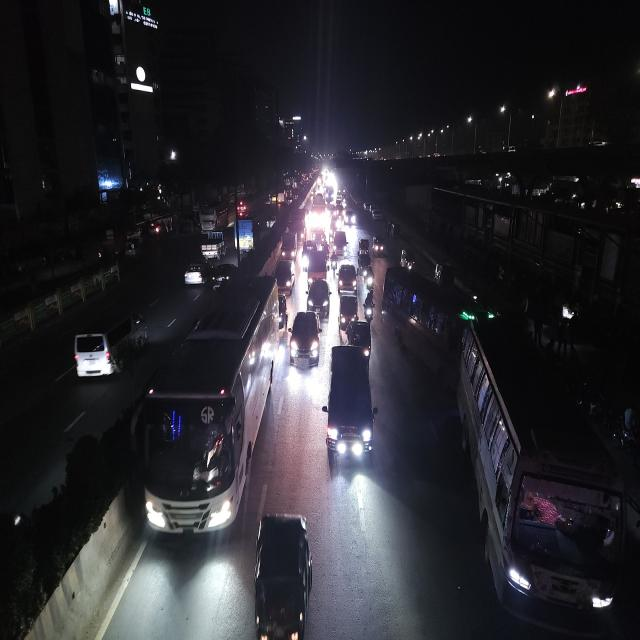bus: (458, 317, 634, 638), (142, 271, 274, 550), (380, 264, 466, 394), (198, 200, 230, 234), (309, 192, 327, 230)
car: (323, 342, 377, 474), (70, 308, 150, 388), (288, 305, 322, 371), (306, 276, 331, 323), (348, 316, 372, 361), (337, 286, 358, 336), (183, 257, 211, 290), (274, 258, 296, 296), (336, 262, 359, 296), (210, 260, 232, 293), (332, 229, 350, 259), (356, 235, 371, 261), (343, 207, 357, 228)
cng: (250, 509, 315, 640), (432, 258, 452, 287), (399, 245, 416, 274), (357, 236, 370, 261), (372, 235, 385, 257)
motorcycle: (276, 290, 289, 332), (363, 287, 375, 326), (362, 260, 376, 291)
pickup_van: (198, 231, 228, 260)
truck: (234, 215, 260, 256), (280, 228, 298, 265)
